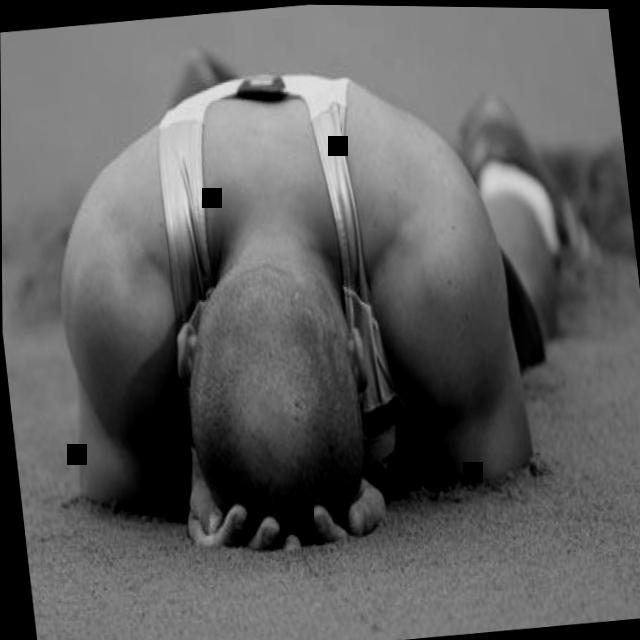Fall-Detected: (0, 0, 640, 577)
